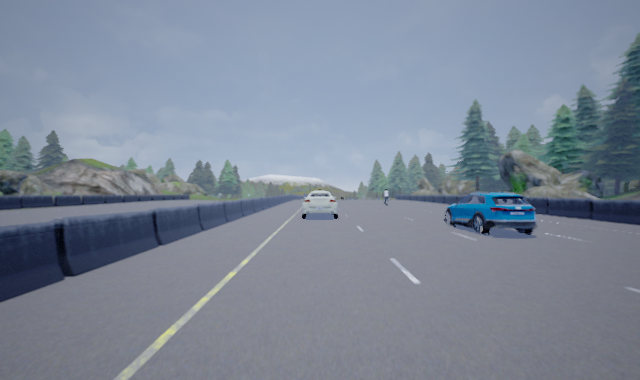bike: (383, 187, 390, 206)
vehicle: (443, 192, 537, 237), (301, 190, 338, 219)
